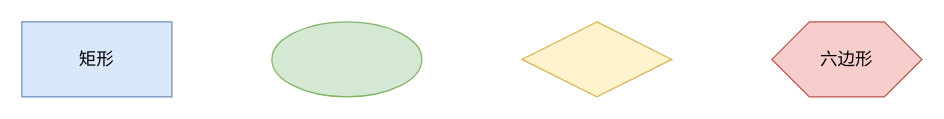
This 944x119 diagram has some shape labels left out. The centre of each missing label's shape, as x and y in pixels:
"椭圆" belongs at pixel 346 59.
"菱形" belongs at pixel 596 59.
